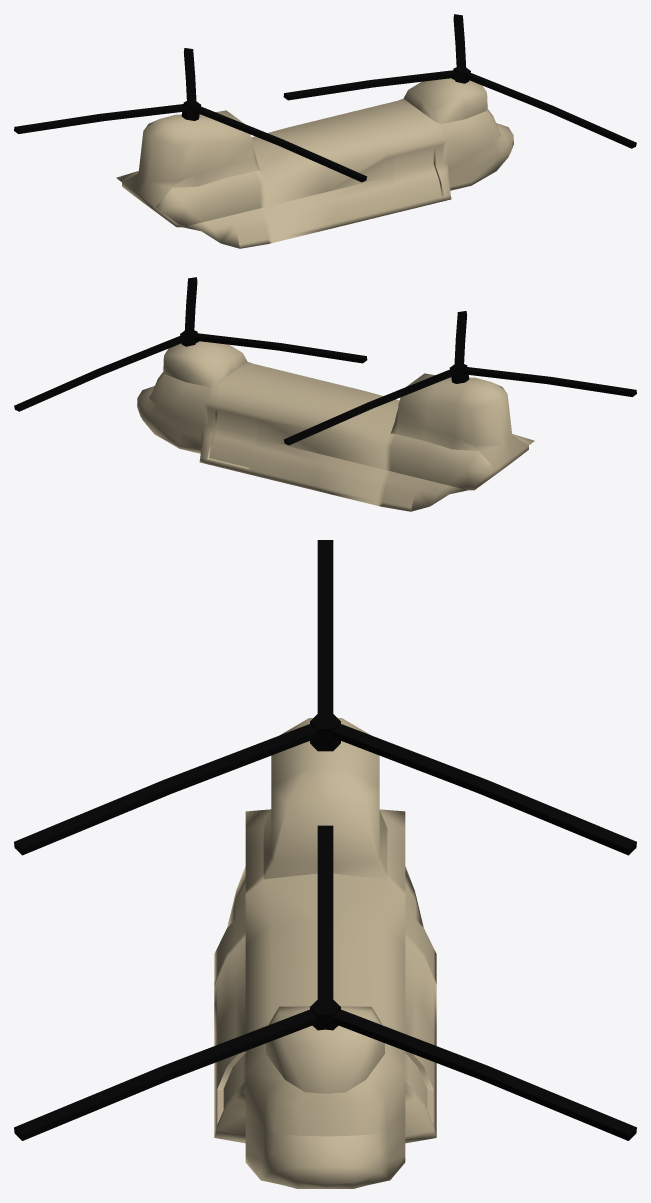
The model's file is model_Chinook_v13_forUnity.fbx.
3 views of the same model, one above another, from view 1: azimuth 30°, elevation 25°; view 2: azimuth 150°, elevation 25°; view 3: azimuth 270°, elevation 25° (orthographic). The views are drawn at different scales.
Visible parts, largest first — view 1: Chopper, RotorR, RotorF_og; view 2: Chopper, RotorR, RotorF_og; view 3: Chopper, RotorR, RotorF_og.
Boxes of the visible parts, box(x1,y1,x2,y2) form: Chopper: box(116, 78, 513, 248); RotorR: box(14, 48, 367, 182); RotorF_og: box(283, 14, 636, 148); Chopper: box(137, 341, 534, 511); RotorR: box(283, 311, 636, 445); RotorF_og: box(14, 277, 367, 411); Chopper: box(214, 718, 436, 1188); RotorR: box(14, 540, 636, 855); RotorF_og: box(14, 825, 636, 1140).
Bounding box in the file's own units: 871 × 227 × 504.
